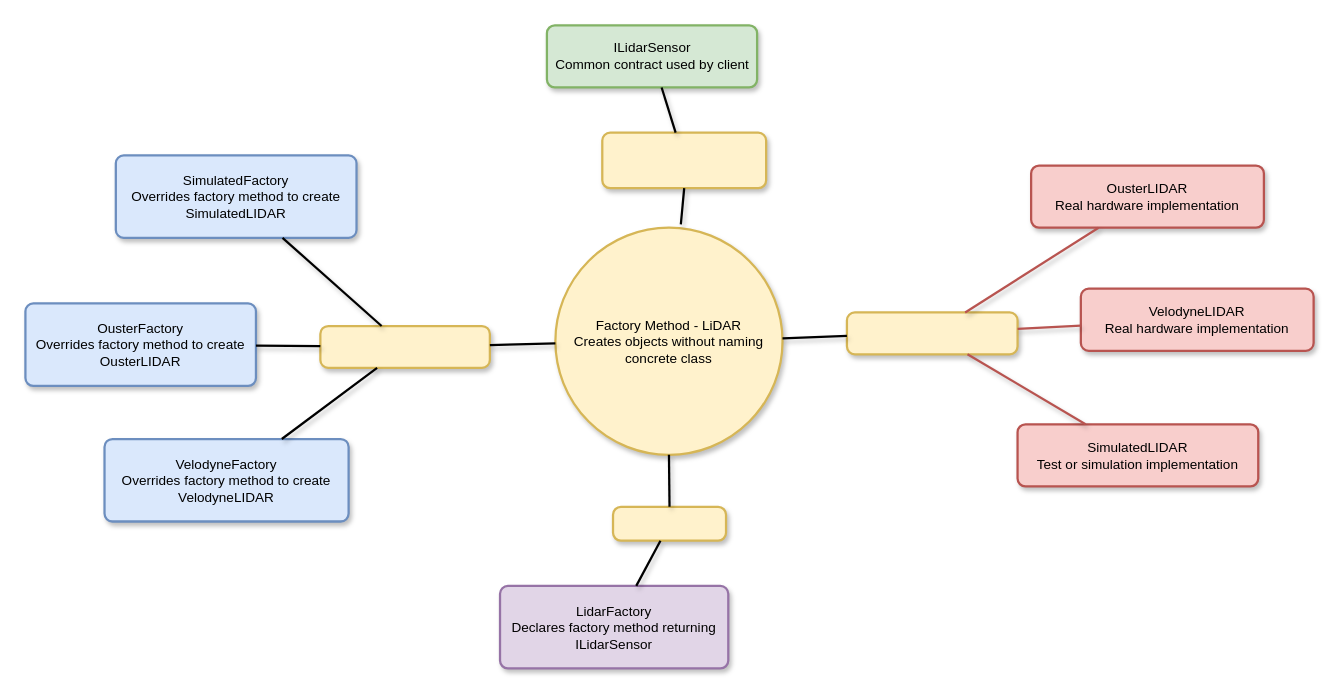
The diagram is 1340 pixels wide and 697 high, and some of its shapes have lost their labels. The centre of each missing label's shape, as x and y in pixels:
Concrete Creators: [405,348]
Concrete Products: [933,334]
Creator: [670,525]
Product Interface: [684,161]
